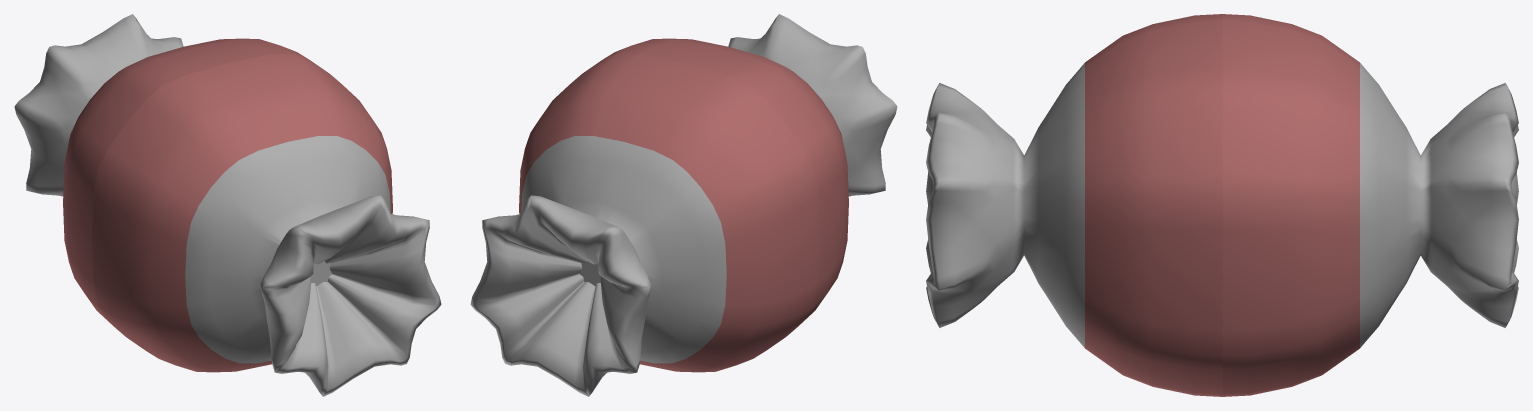
Rendered from candy1.fbx.
3 views of the same model, side by side, from view 1: azimuth 30°, elevation 25°; view 2: azimuth 150°, elevation 25°; view 3: azimuth 270°, elevation 25° (orthographic). The views are drawn at different scales.
Visible parts, largest first — view 1: pCube2; view 2: pCube2; view 3: pCube2.
Part boxes in pixels (x1,y1,x2,y2): pCube2: (14,14,441,396); pCube2: (470,14,897,396); pCube2: (926,14,1518,396).
Bounding box in the file's own units: 841 × 841 × 1394.
